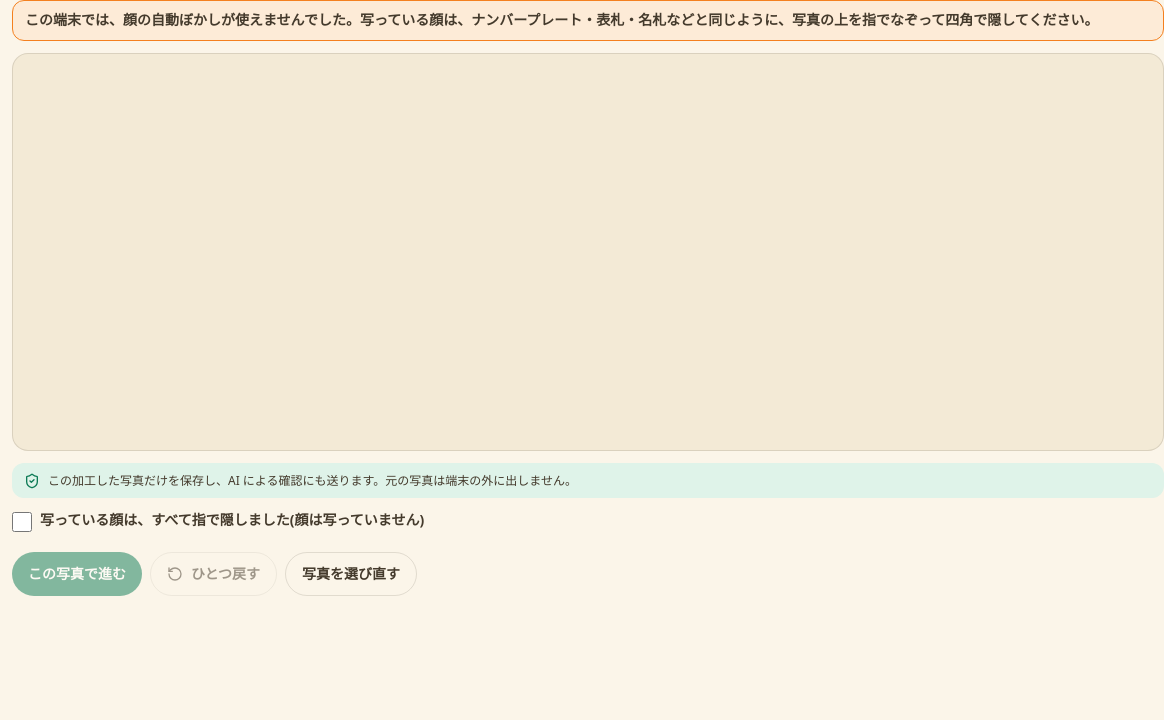
Test: PhotoMasker(写真を端末でぼかす) › この端末で顔の自動ぼかしが使えないときは、そう知らせ、指で隠したと確かめるまで進めない
This screenshot has width=1164, height=720.
Later steps or results of the test are not shown.
Expected: the message with test id "photo-masker-detection-unavailable" shows "顔の自動ぼかしが使えませんでした", [25,10,1098,29]
Expected: the button "この写真で進む" is disabled, [12,552,142,596]
What coordinates should you click on to do the following:
click the checkbox labelled "写っている顔は、すべて指で隠しました(顔は写っていません)"
I would click on:
 (22, 522)
Its box is [12,512,32,532].
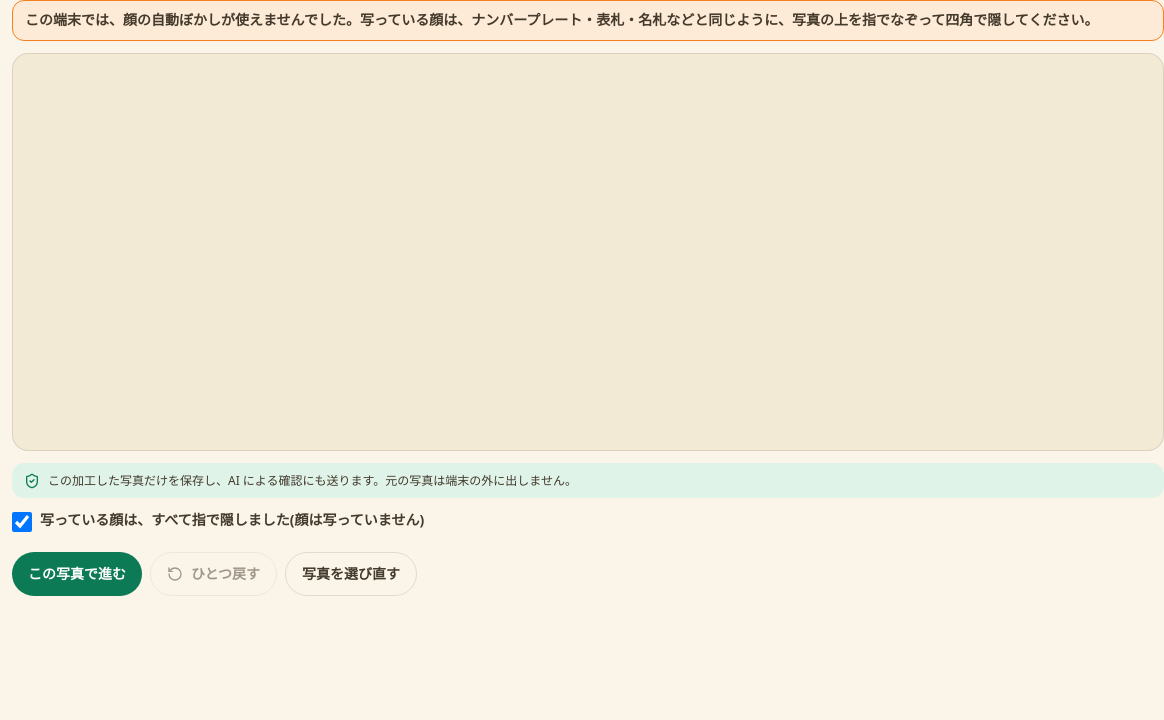
Expected: the button "この写真で進む" is enabled, [12,552,142,596]
